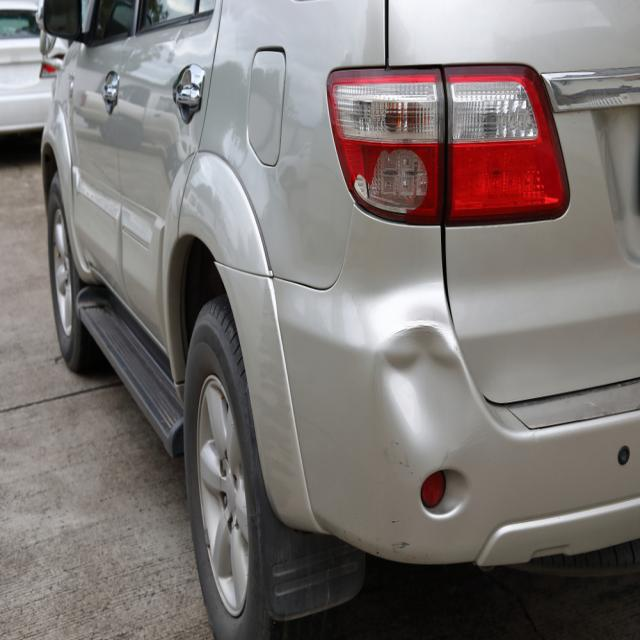dent: (383, 323, 472, 455)
lamp broken: (328, 66, 447, 225)
